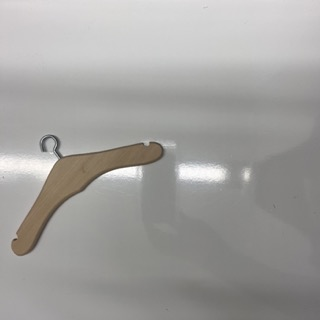rack: (11, 134, 162, 255)
